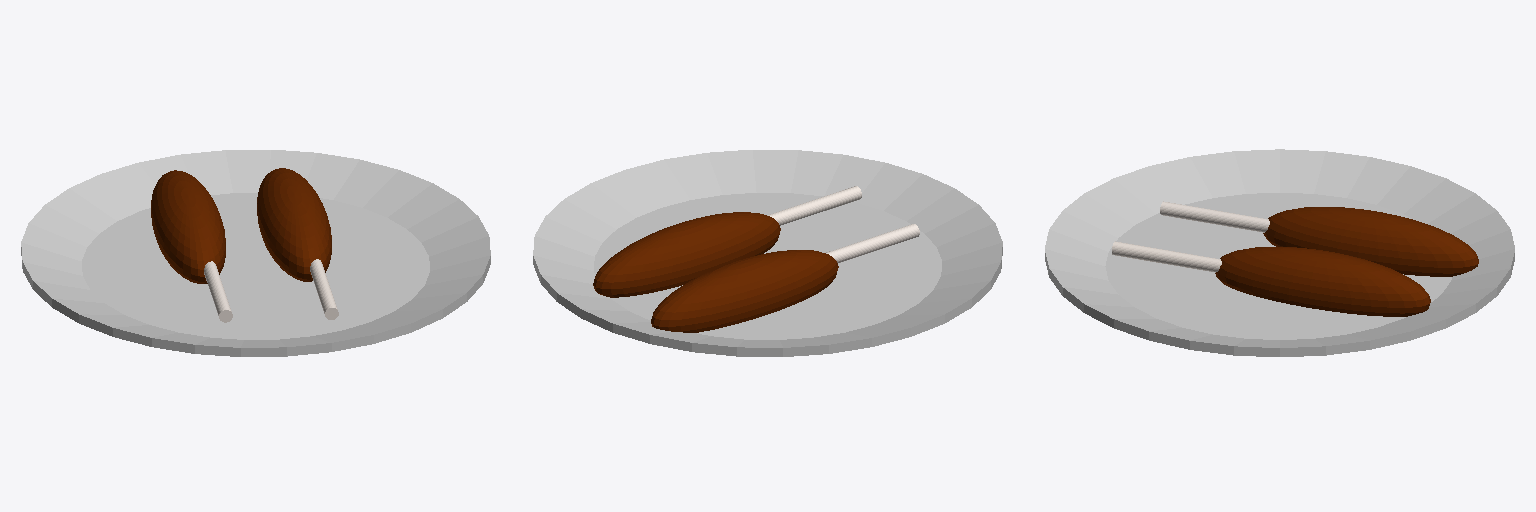
File: chickenLegs.obj
3 views of the same model, side by side, from view 1: azimuth 30°, elevation 25°; view 2: azimuth 150°, elevation 25°; view 3: azimuth 270°, elevation 25° (orthographic).
Visible parts, largest first — view 1: ChickenLegs_Cylinder.006; view 2: ChickenLegs_Cylinder.006; view 3: ChickenLegs_Cylinder.006.
Part boxes in pixels (x1,y1,x2,y2): ChickenLegs_Cylinder.006: (21, 150, 490, 356); ChickenLegs_Cylinder.006: (533, 150, 1002, 356); ChickenLegs_Cylinder.006: (1045, 149, 1514, 356).
Bounding box in the file's own units: 0.1689 × 0.0247 × 0.1689.